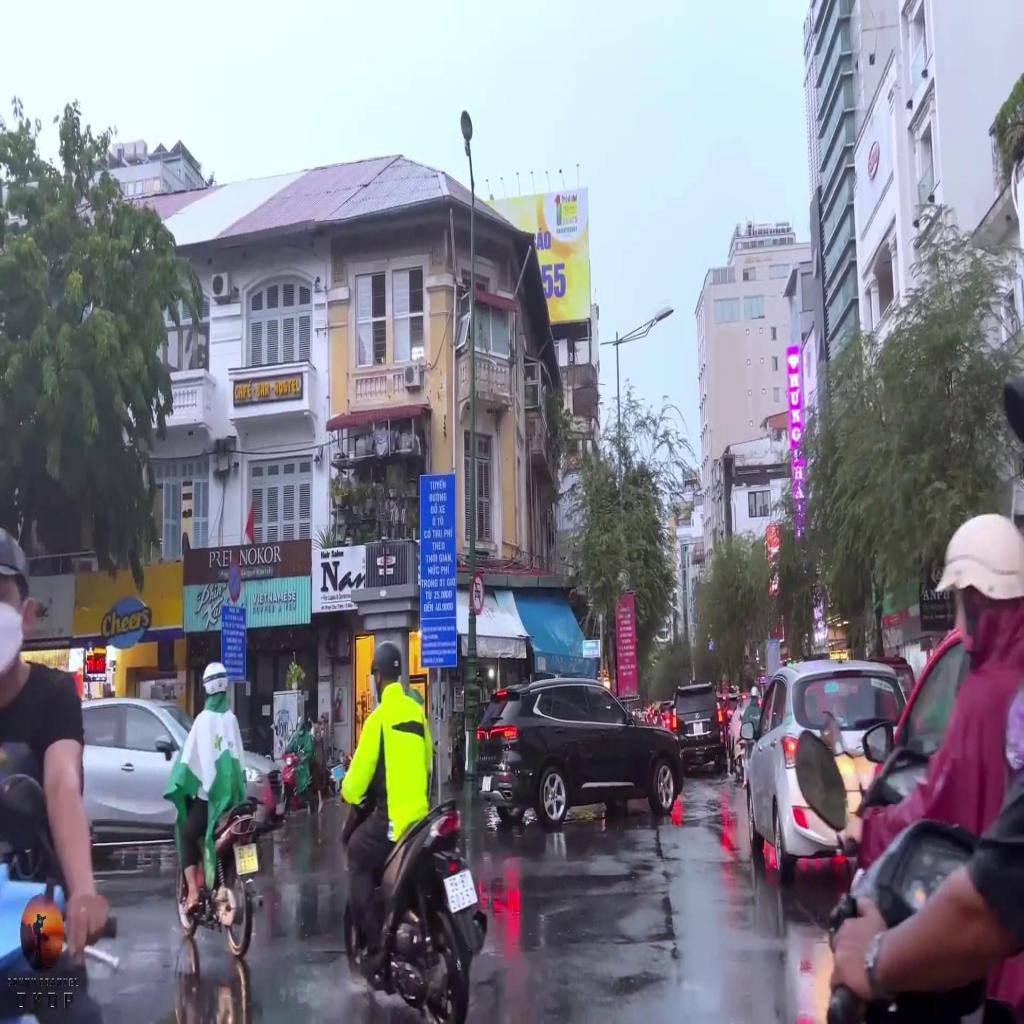cam_dung_xe_va_do_xe: (228, 558, 241, 603)
cam_o_to: (471, 574, 484, 615)
